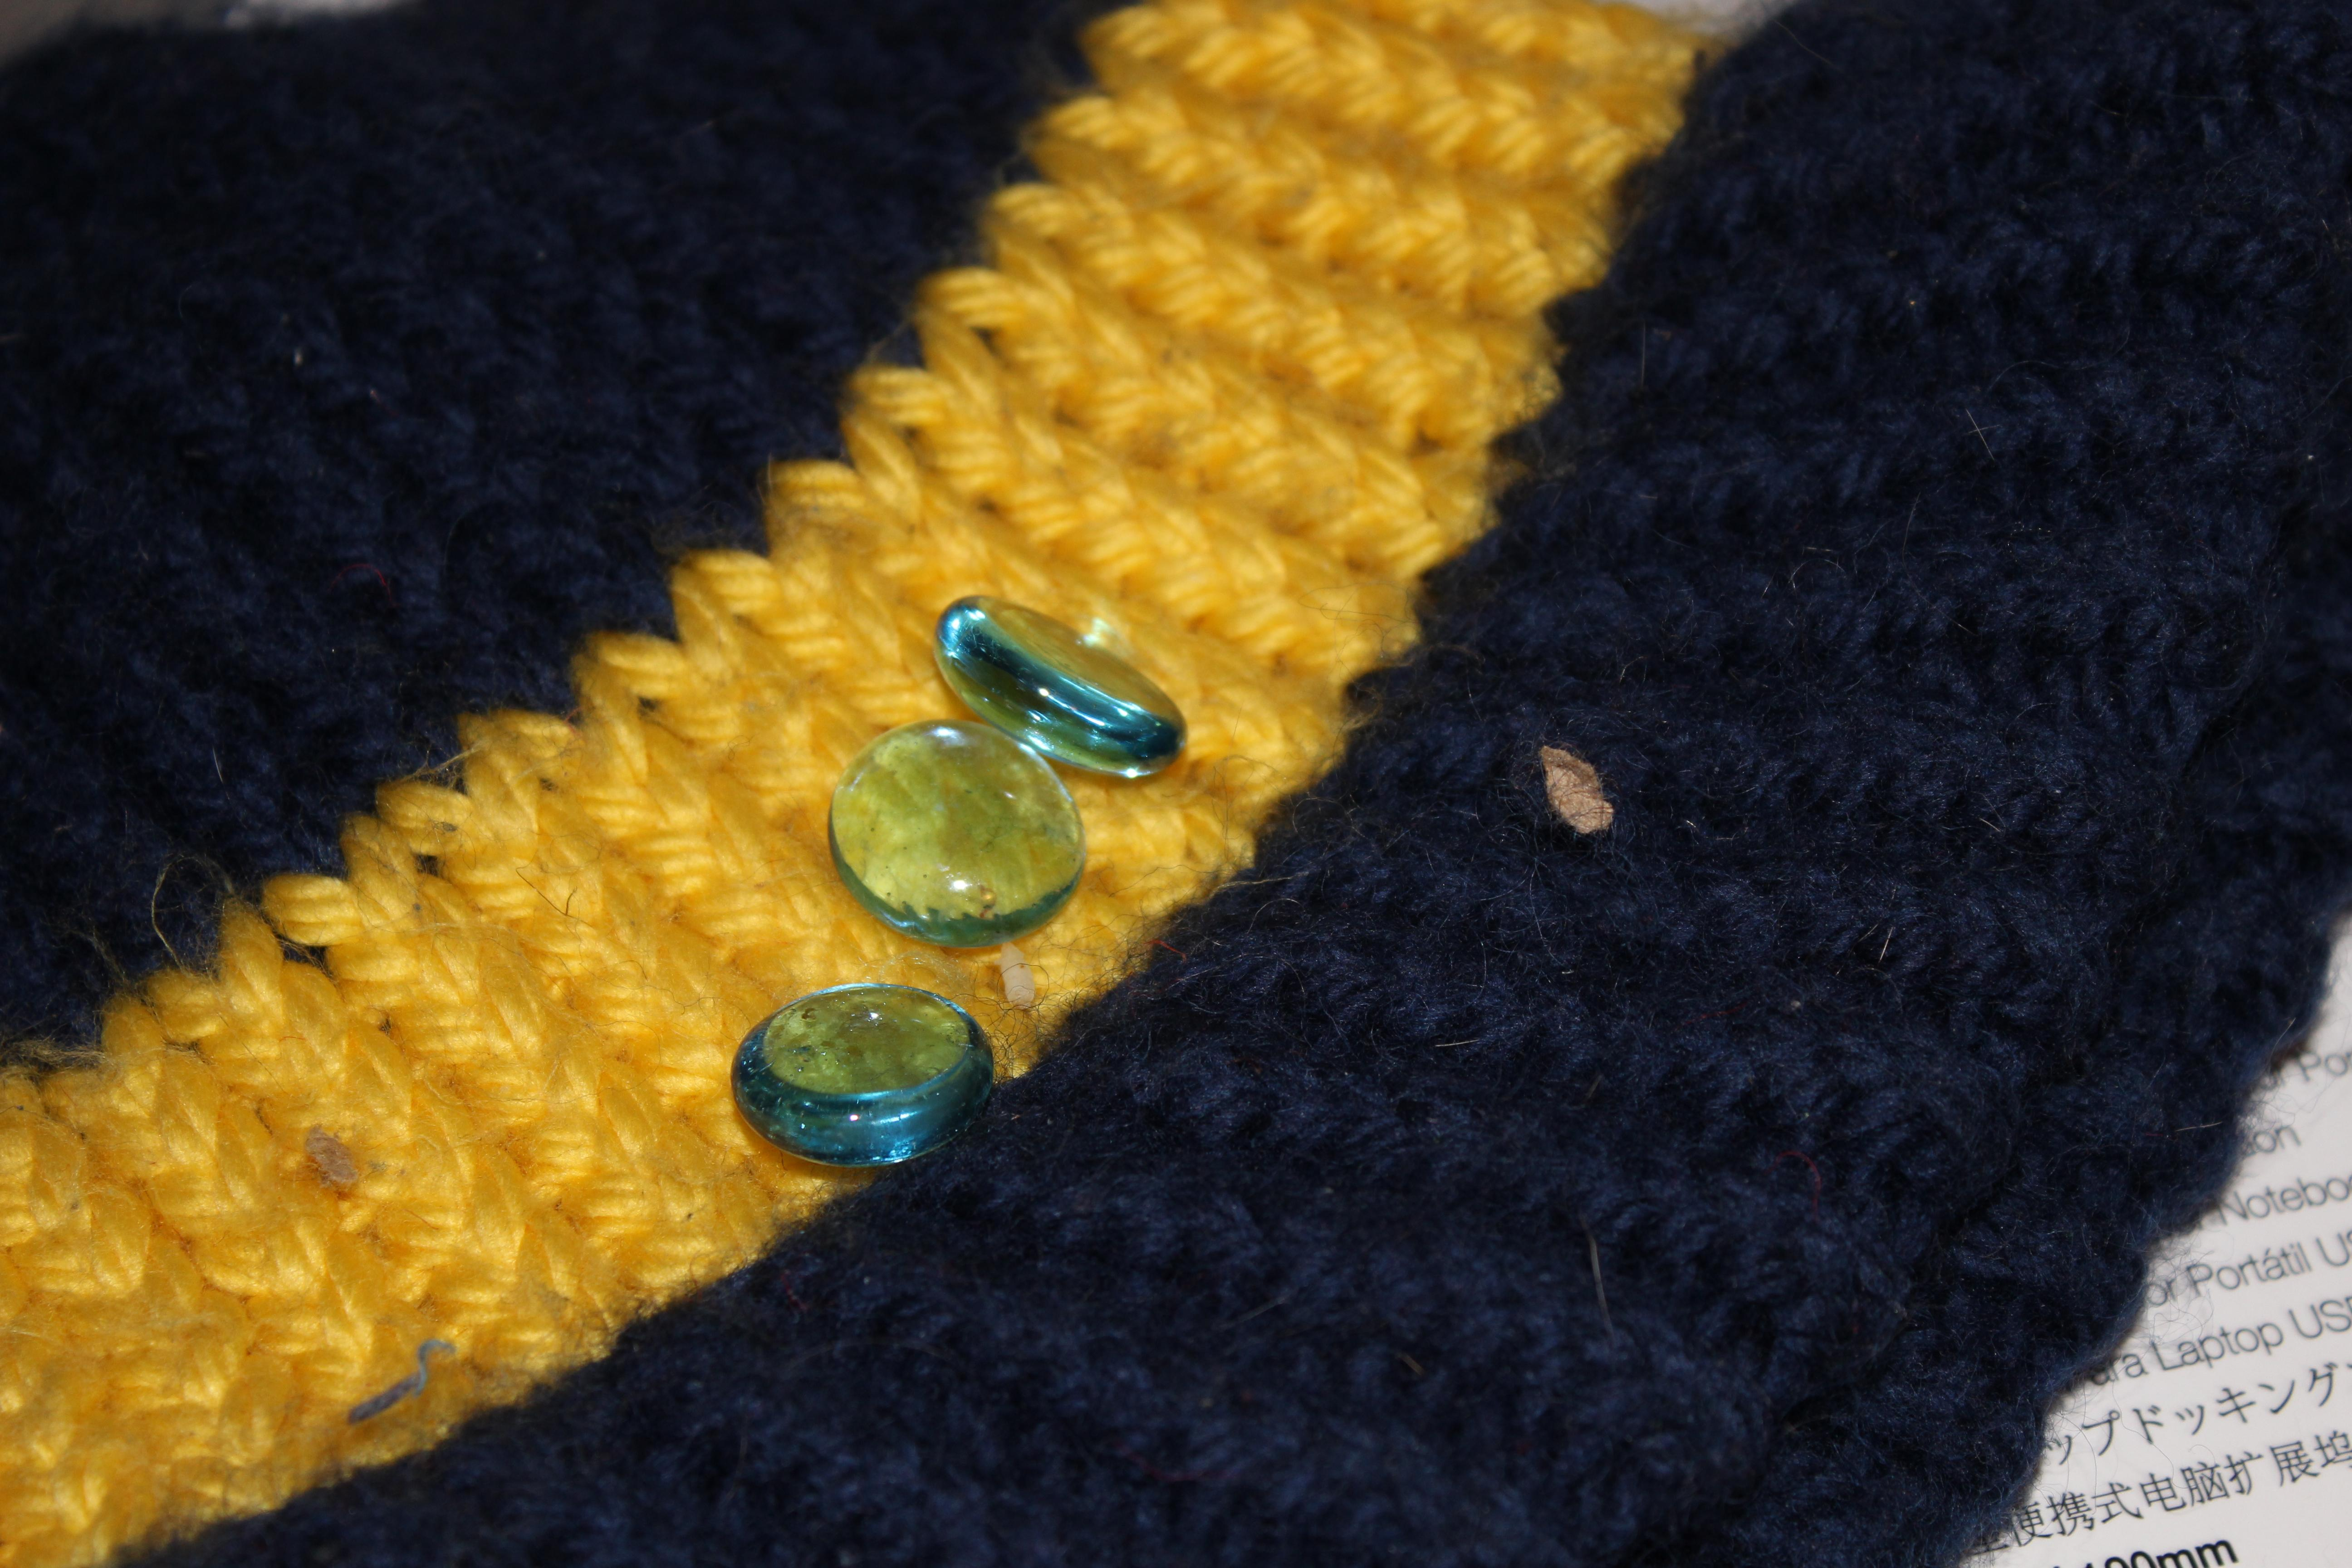glassBead: (796, 705, 1106, 968), (718, 961, 1020, 1193), (908, 581, 1199, 794)
